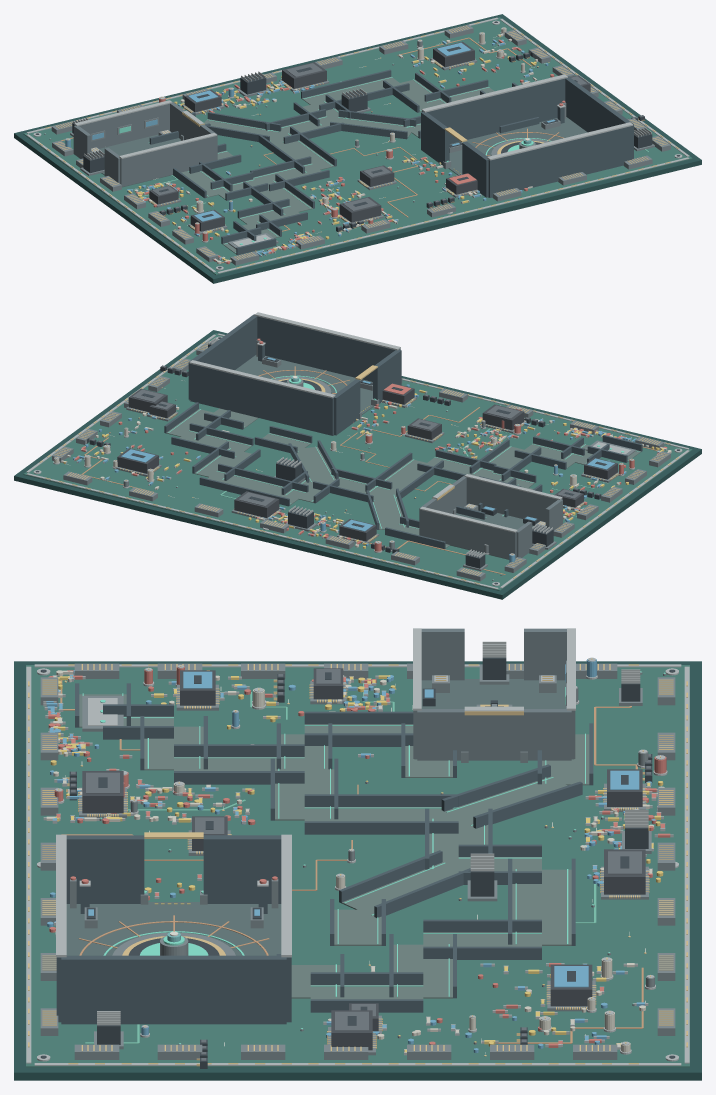
Rendered from motherboard_editable.glb.
3 views of the same model, one above another, from view 1: azimuth 30°, elevation 25°; view 2: azimuth 150°, elevation 25°; view 3: azimuth 270°, elevation 25° (orthographic). The views are drawn at different scales.
Visible parts, largest first — view 1: MAT_pcb_part0-col, MAT_pcb_dark_part0-col, MAT_wall2_part41-col, MAT_wall2_part40-col, MAT_wall_part1-col, MAT_wall_part0-col, MAT_wall2_part44-col, MAT_floor2_part1-col, MAT_wall2_part43-col, MAT_metal_part0-col, MAT_wall2_part42-col, MAT_floor_part3-col (+33 smaller); view 2: MAT_pcb_part0-col, MAT_pcb_dark_part0-col, MAT_wall2_part40-col, MAT_wall2_part41-col, MAT_wall_part0-col, MAT_wall_part1-col, MAT_wall2_part44-col, MAT_floor2_part1-col, MAT_wall2_part43-col, MAT_metal_part1-col, MAT_wall2_part42-col, MAT_floor_part3-col (+25 smaller); view 3: MAT_pcb_part0-col, MAT_pcb_dark_part0-col, MAT_wall2_part44-col, MAT_floor2_part1-col, MAT_wall_part4-col, MAT_wall2_part42-col, MAT_wall2_part43-col, MAT_floor_part6-col, MAT_floor2_part0-col, MAT_floor_part8-col, MAT_floor_part2-col, MAT_metal_part0-col (+55 smaller).
Part boxes in pixels (<box>): MAT_pcb_part0-col: <box>23,17,692,275</box>; MAT_pcb_dark_part0-col: <box>14,14,701,283</box>; MAT_wall2_part41-col: <box>487,126,632,197</box>; MAT_wall2_part40-col: <box>422,78,566,143</box>; MAT_wall_part1-col: <box>120,136,216,186</box>; MAT_wall_part0-col: <box>74,103,169,148</box>; MAT_wall2_part44-col: <box>565,76,633,158</box>; MAT_floor2_part1-col: <box>448,117,587,197</box>; MAT_wall2_part43-col: <box>421,112,449,165</box>; MAT_metal_part0-col: <box>217,157,689,273</box>; MAT_wall2_part42-col: <box>462,141,488,197</box>; MAT_floor_part3-col: <box>270,134,334,171</box>; MAT_pcb_part0-col: <box>23,333,692,590</box>; MAT_pcb_dark_part0-col: <box>14,330,701,599</box>; MAT_wall2_part40-col: <box>189,363,333,435</box>; MAT_wall2_part41-col: <box>257,316,400,381</box>; MAT_wall_part0-col: <box>420,509,516,559</box>; MAT_wall_part1-col: <box>466,477,562,522</box>; MAT_wall2_part44-col: <box>188,314,257,399</box>; MAT_floor2_part1-col: <box>235,355,373,435</box>; MAT_wall2_part43-col: <box>334,379,360,435</box>; MAT_metal_part1-col: <box>26,473,498,589</box>; MAT_wall2_part42-col: <box>373,350,401,403</box>; MAT_floor_part3-col: <box>370,459,434,498</box>; MAT_pcb_part0-col: <box>26,665,689,1067</box>; MAT_pcb_dark_part0-col: <box>14,661,701,1080</box>; MAT_wall2_part44-col: <box>61,955,286,1024</box>; MAT_floor2_part1-col: <box>66,902,281,955</box>; MAT_wall_part4-col: <box>417,709,571,760</box>; MAT_wall2_part42-col: <box>66,835,144,903</box>; MAT_wall2_part43-col: <box>203,835,281,903</box>; MAT_floor_part6-col: <box>512,869,571,945</box>; MAT_floor2_part0-col: <box>414,679,573,759</box>; MAT_floor_part8-col: <box>393,944,452,998</box>; MAT_floor_part2-col: <box>275,769,334,820</box>; MAT_metal_part0-col: <box>26,666,31,1063</box>.
Bounding box in the file's own units: 164 × 14.5 × 116.
